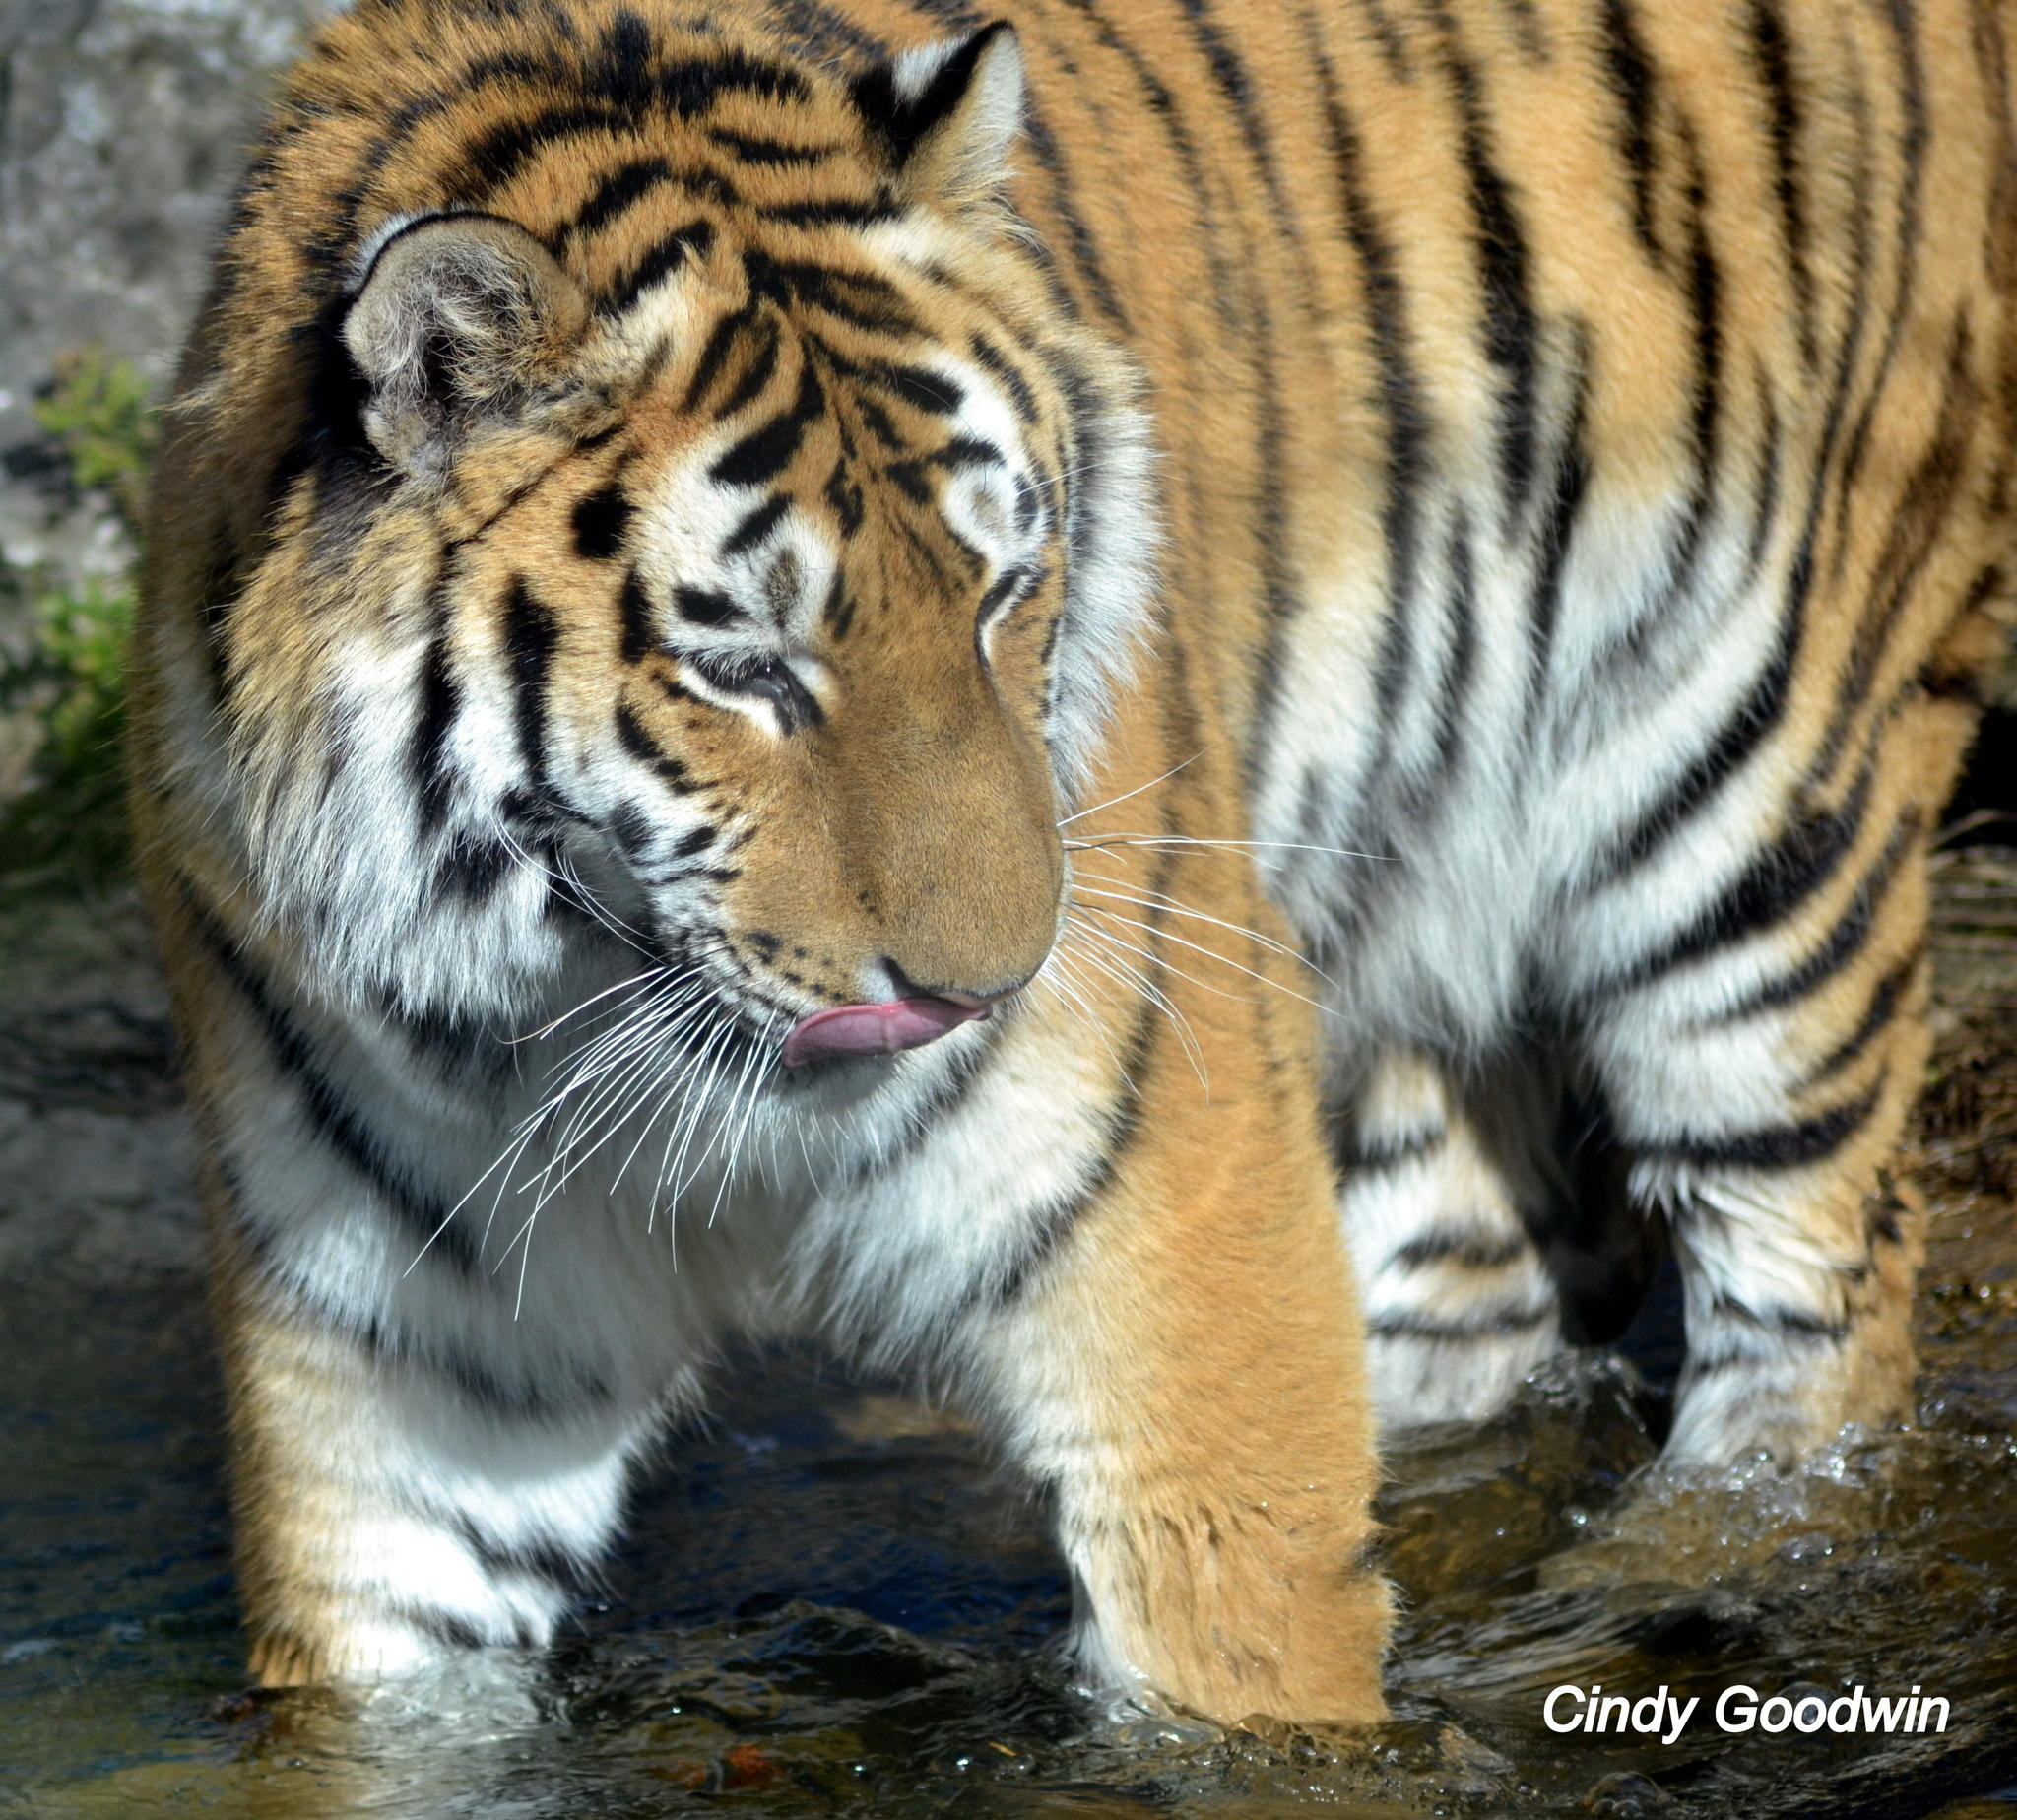tiger: (149, 91, 1869, 1644)
